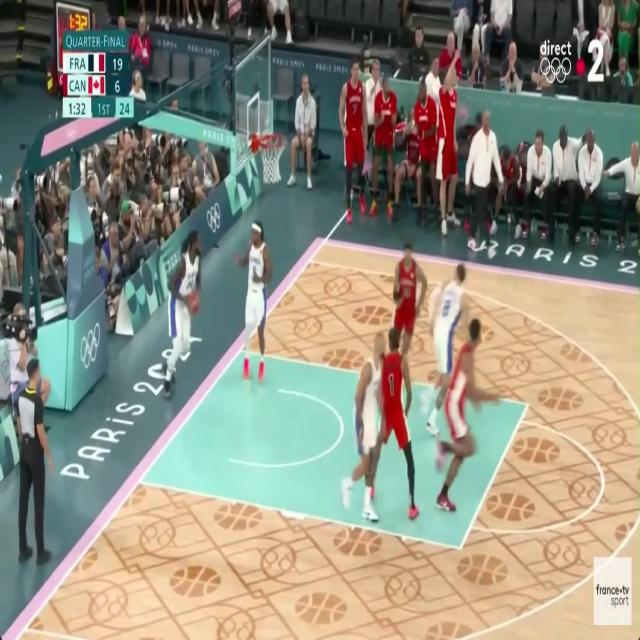ball_handler: (162, 231, 204, 402)
